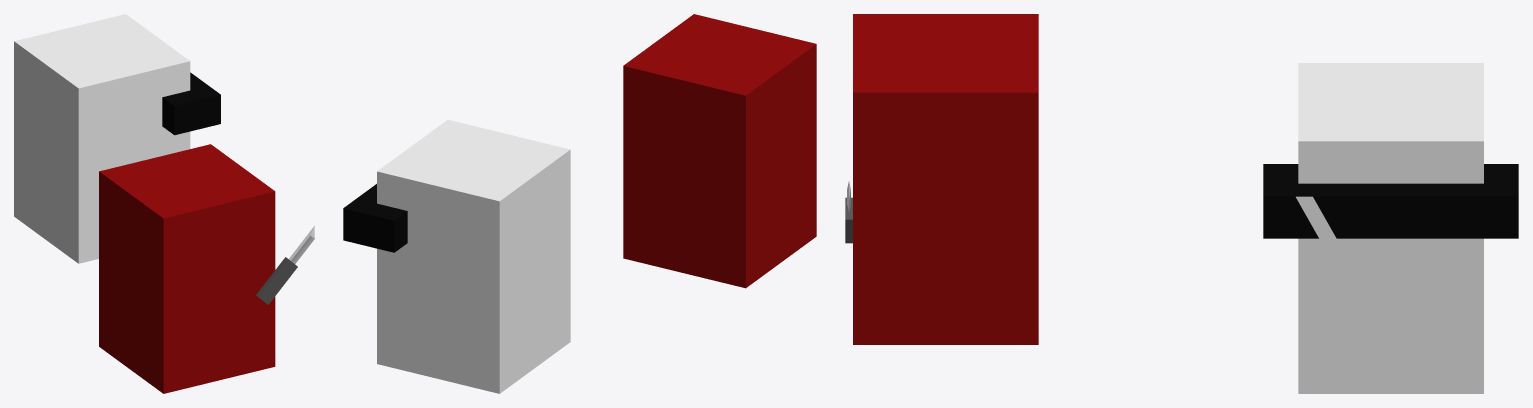
Rendered from 5cda5c99-e87e-4a08-bb31-bed5b6f409aa.obj.
The picture shows the model from 3 angles, left to right: view 1: azimuth 30°, elevation 25°; view 2: azimuth 150°, elevation 25°; view 3: azimuth 270°, elevation 25°; orthographic projection. The views are drawn at different scales.
Parts seen in each view (by area): view 1: Mesh5 Group2 Chaser1 Model, Mesh1 Group1 Player_model1 Model, Mesh3 Player_model1 Model, Mesh7 Group4 Group3 Chaser1 Model, Mesh28 Chaser1 Model; view 2: Mesh5 Group2 Chaser1 Model, Mesh1 Group1 Player_model1 Model, Mesh3 Player_model1 Model; view 3: Mesh5 Group2 Chaser1 Model, Mesh1 Group1 Player_model1 Model, Mesh3 Player_model1 Model.
Boxes of the visible parts, left/top/right/bottom form: Mesh5 Group2 Chaser1 Model: left=99, top=144, right=275, bottom=393; Mesh1 Group1 Player_model1 Model: left=14, top=14, right=190, bottom=263; Mesh3 Player_model1 Model: left=162, top=72, right=220, bottom=135; Mesh7 Group4 Group3 Chaser1 Model: left=256, top=257, right=297, bottom=304; Mesh28 Chaser1 Model: left=289, top=226, right=314, bottom=263; Mesh5 Group2 Chaser1 Model: left=623, top=14, right=816, bottom=288; Mesh1 Group1 Player_model1 Model: left=377, top=119, right=570, bottom=393; Mesh3 Player_model1 Model: left=343, top=184, right=407, bottom=252; Mesh5 Group2 Chaser1 Model: left=853, top=14, right=1038, bottom=344; Mesh1 Group1 Player_model1 Model: left=1298, top=63, right=1483, bottom=393; Mesh3 Player_model1 Model: left=1263, top=164, right=1518, bottom=238.
Bounding box in the file's own units: 42.95 × 36 × 87.02.
